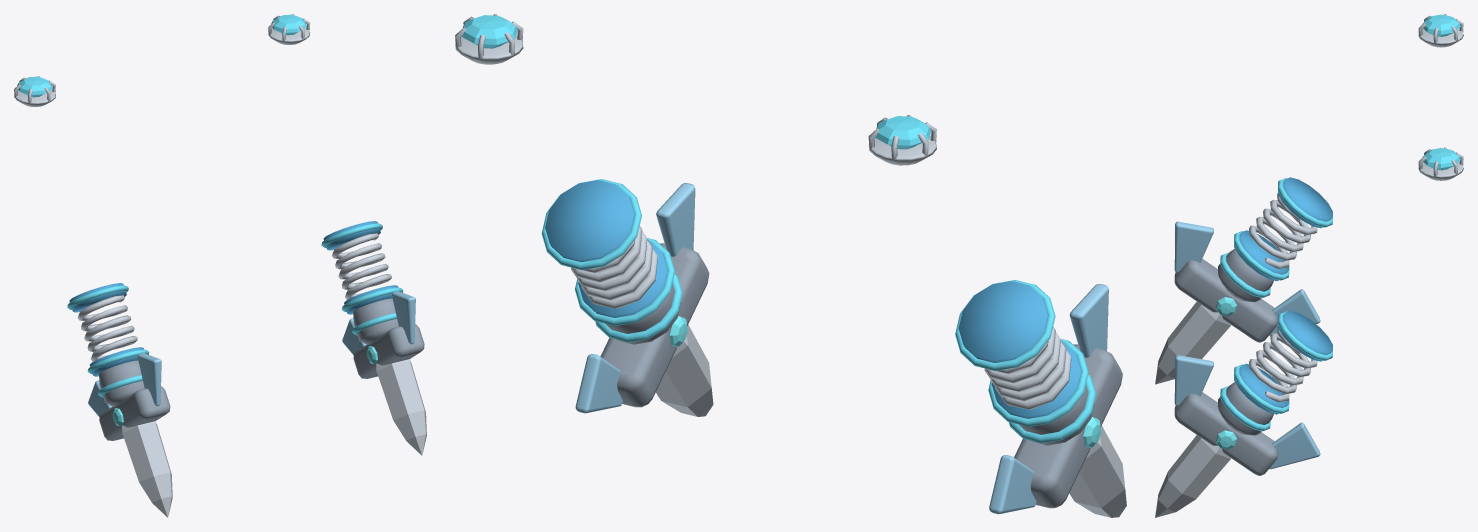
File: IcePickPost_T3_Upgrades.fbx
3 views of the same model, side by side, from view 1: azimuth 30°, elevation 25°; view 2: azimuth 150°, elevation 25°; view 3: azimuth 270°, elevation 25° (orthographic). The views are drawn at different scales.
Visible parts, largest first — view 1: IcePickPostT3U1PickB, IcePickPostT3U1PickA, IcePickPostT3U3Spring2, IcePickPostT3U3Spring1, IcePickPostT3U3Spring1Glow, IcePickPostT3U3Spring2Glow, IcePickPostT3U2Lamp1, IcePickPostT3U2Lamp2, IcePickPostT3U2Lamp2Glow, IcePickPostT3U2Lamp1Glow; view 2: IcePickPostT3U1PickB, IcePickPostT3U1PickA, IcePickPostT3U3Spring2, IcePickPostT3U3Spring1, IcePickPostT3U3Spring1Glow, IcePickPostT3U3Spring2Glow, IcePickPostT3U2Lamp1, IcePickPostT3U2Lamp2, IcePickPostT3U2Lamp1Glow, IcePickPostT3U2Lamp2Glow, IcePickPostT3U1PickAGlow, IcePickPostT3U1PickBGlow; view 3: IcePickPostT3U1PickB, IcePickPostT3U1PickA, IcePickPostT3U3Spring2, IcePickPostT3U3Spring1, IcePickPostT3U3Spring2Glow, IcePickPostT3U3Spring1Glow, IcePickPostT3U2Lamp2, IcePickPostT3U2Lamp1, IcePickPostT3U2Lamp2Glow, IcePickPostT3U2Lamp1Glow, IcePickPostT3U1PickBGlow, IcePickPostT3U1PickAGlow.
Part boxes in pixels (x1,y1,x2,y2): IcePickPostT3U1PickB: (342, 291, 426, 455); IcePickPostT3U1PickA: (88, 353, 172, 517); IcePickPostT3U3Spring2: (323, 221, 397, 314); IcePickPostT3U3Spring1: (69, 283, 143, 376); IcePickPostT3U3Spring1Glow: (67, 285, 149, 374); IcePickPostT3U3Spring2Glow: (321, 223, 403, 312); IcePickPostT3U2Lamp1: (14, 76, 55, 106); IcePickPostT3U2Lamp2: (268, 14, 309, 44); IcePickPostT3U2Lamp2Glow: (271, 14, 306, 35); IcePickPostT3U2Lamp1Glow: (17, 76, 52, 97); IcePickPostT3U1PickB: (575, 183, 713, 416); IcePickPostT3U1PickA: (989, 284, 1126, 517); IcePickPostT3U3Spring2: (545, 180, 667, 317); IcePickPostT3U3Spring1: (958, 281, 1080, 418); IcePickPostT3U3Spring1Glow: (955, 280, 1088, 426); IcePickPostT3U3Spring2Glow: (541, 179, 675, 325); IcePickPostT3U2Lamp1: (868, 115, 936, 165); IcePickPostT3U2Lamp2: (455, 14, 523, 64); IcePickPostT3U2Lamp1Glow: (875, 116, 931, 149); IcePickPostT3U2Lamp2Glow: (461, 15, 517, 48); IcePickPostT3U1PickAGlow: (1008, 374, 1096, 443); IcePickPostT3U1PickBGlow: (595, 273, 682, 342); IcePickPostT3U1PickB: (1155, 355, 1320, 517); IcePickPostT3U1PickA: (1155, 221, 1320, 384); IcePickPostT3U3Spring2: (1234, 310, 1332, 414); IcePickPostT3U3Spring1: (1234, 177, 1332, 281); IcePickPostT3U3Spring2Glow: (1234, 311, 1332, 413); IcePickPostT3U3Spring1Glow: (1234, 178, 1332, 280); IcePickPostT3U2Lamp2: (1418, 147, 1463, 180); IcePickPostT3U2Lamp1: (1418, 14, 1463, 47); IcePickPostT3U2Lamp2Glow: (1422, 148, 1460, 170); IcePickPostT3U2Lamp1Glow: (1422, 14, 1460, 36); IcePickPostT3U1PickBGlow: (1220, 386, 1270, 431); IcePickPostT3U1PickAGlow: (1220, 252, 1270, 297).
Size of the model in its own units: 136 by 143 by 109.
